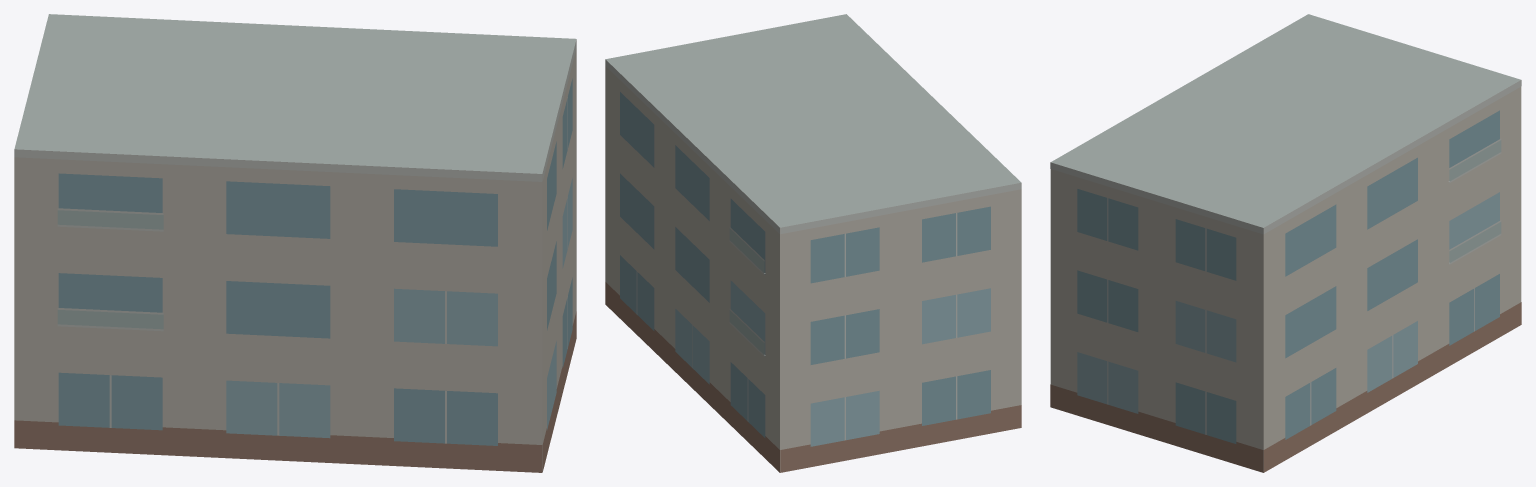
Rendered from survey-upis-32809050.glb.
The picture shows the model from 3 angles, left to right: view 1: azimuth 30°, elevation 25°; view 2: azimuth 150°, elevation 25°; view 3: azimuth 270°, elevation 25°; orthographic projection. The views are drawn at different scales.
Visible parts, largest first — view 1: survey-upis-32809050.tmp; view 2: survey-upis-32809050.tmp; view 3: survey-upis-32809050.tmp.
Part boxes in pixels (x1,y1,x2,y2): survey-upis-32809050.tmp: (14, 14, 576, 472); survey-upis-32809050.tmp: (605, 14, 1021, 472); survey-upis-32809050.tmp: (1050, 14, 1521, 472).
Size of the model in its own units: 17.15 by 9.15 by 15.95.
